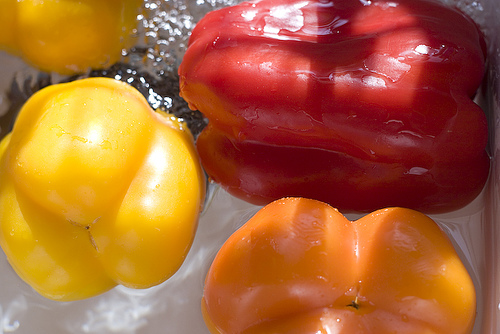capsicum: (178, 0, 494, 218), (0, 77, 205, 302), (200, 197, 477, 332), (0, 0, 147, 82)
